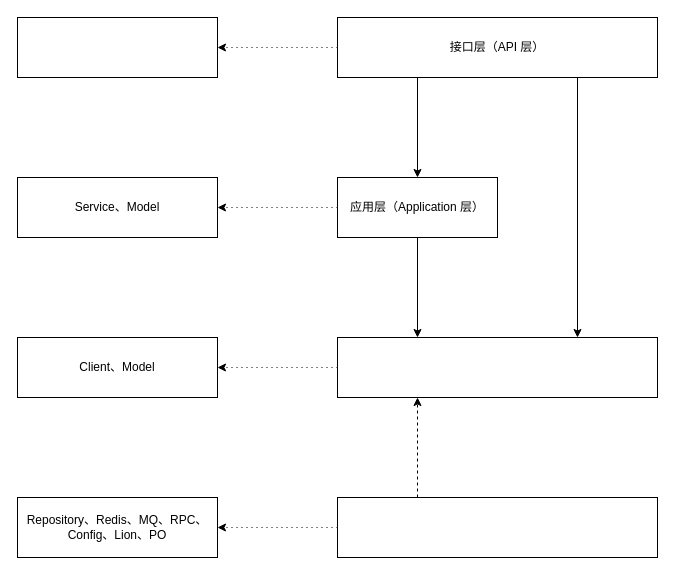
Image size: 675x575. Some labels were removed from this diagram. The box of each missing label's shape, as (x1, y1, x2, y2) in pixels:
Controller、Request、Response: (16, 16, 218, 78)
基础设施层（Infrastructure 层）: (336, 496, 658, 558)
领域层（Domain 层）: (336, 336, 658, 398)
